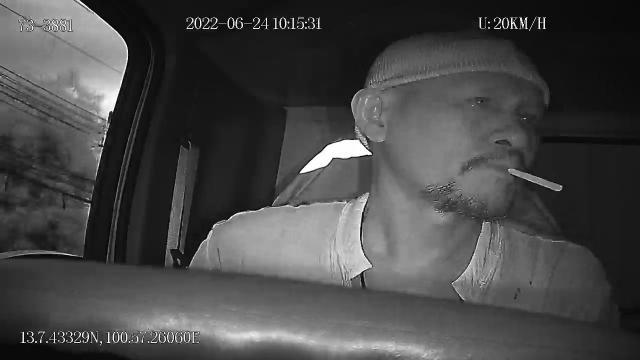SafeDriving: (454, 82, 498, 115)
Smoking: (507, 164, 569, 196)
